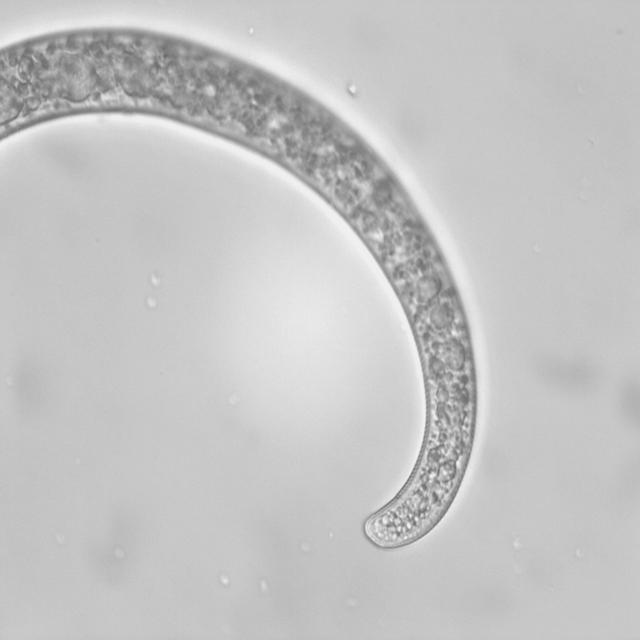Helicotylenchus: (0, 23, 501, 562)
